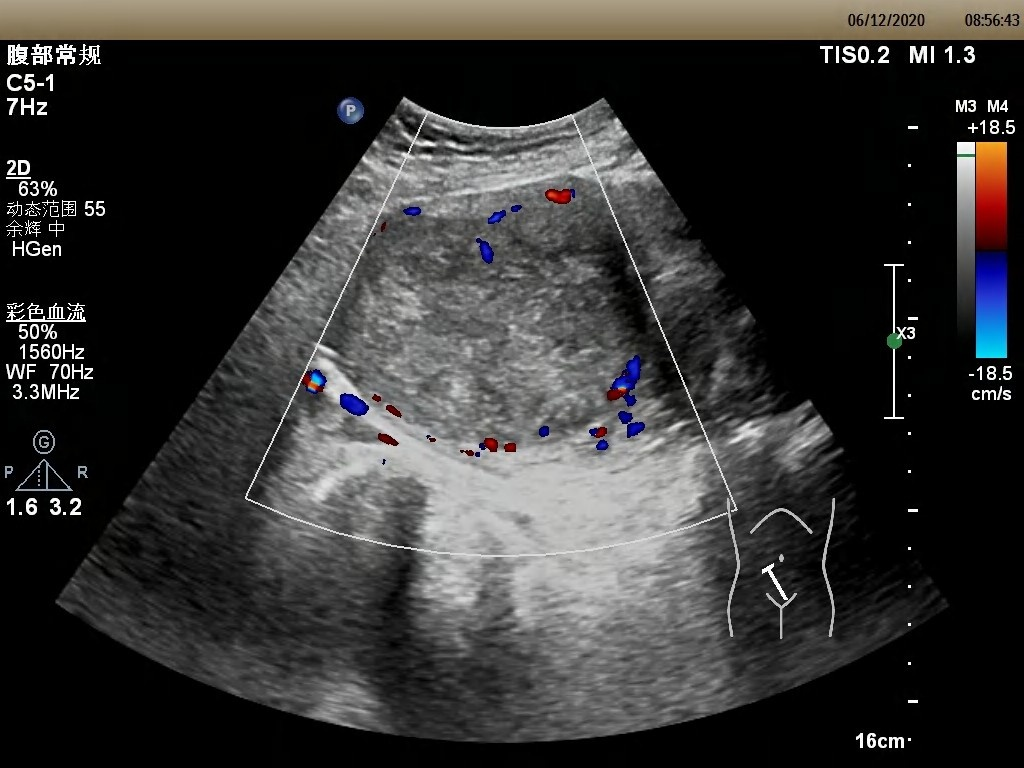肌瘤: (342, 181, 663, 445)
